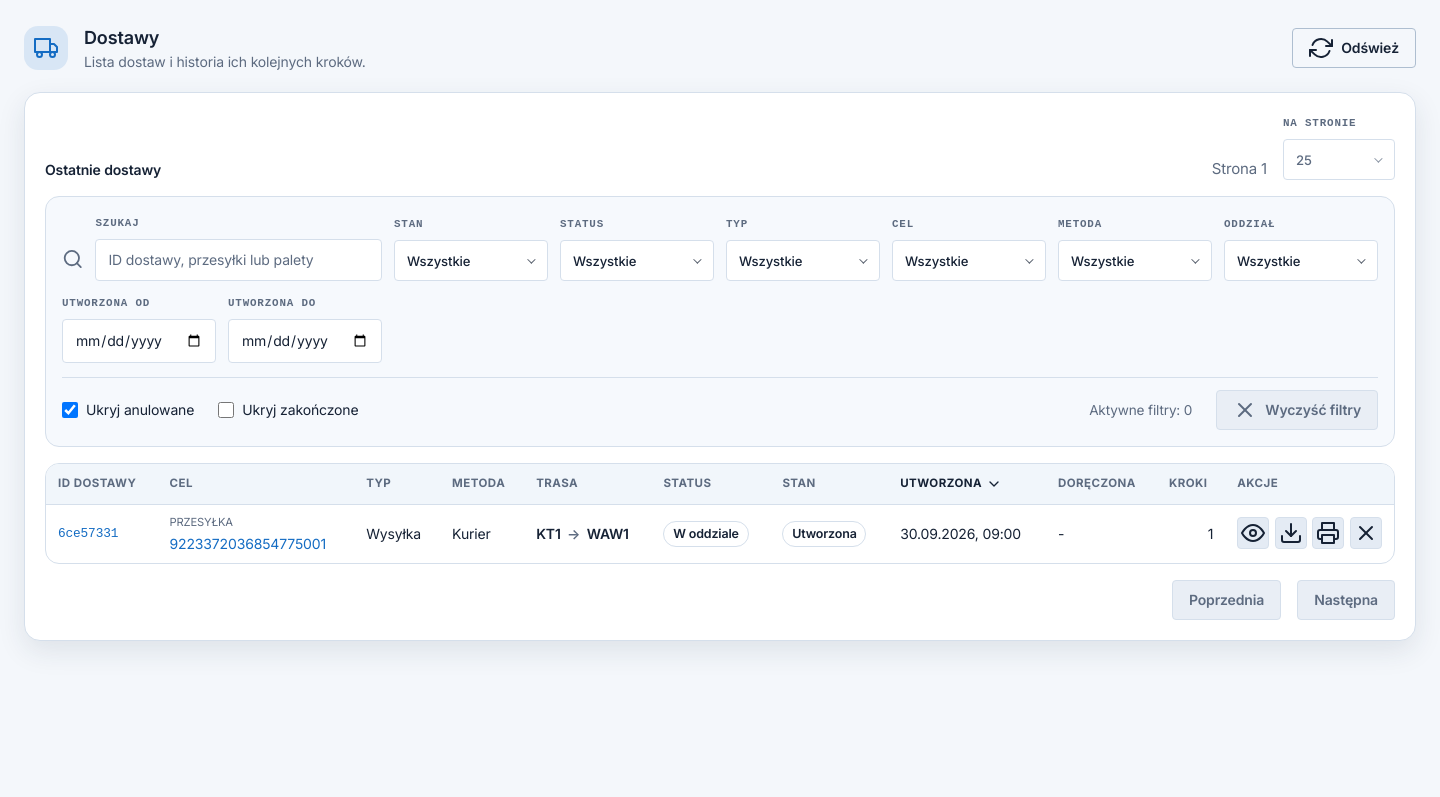
it: Deliveries › shows the delivery and its steps
Check: the link "9223372036854775001" is shown, box x1=170 y1=533 x2=342 y2=554
Click the button named "Edytuj 6ce57331-8ef7-4a81-bf0f-14baa23231ad" at (1253, 533), box x1=1237 y1=517 x2=1269 y2=549
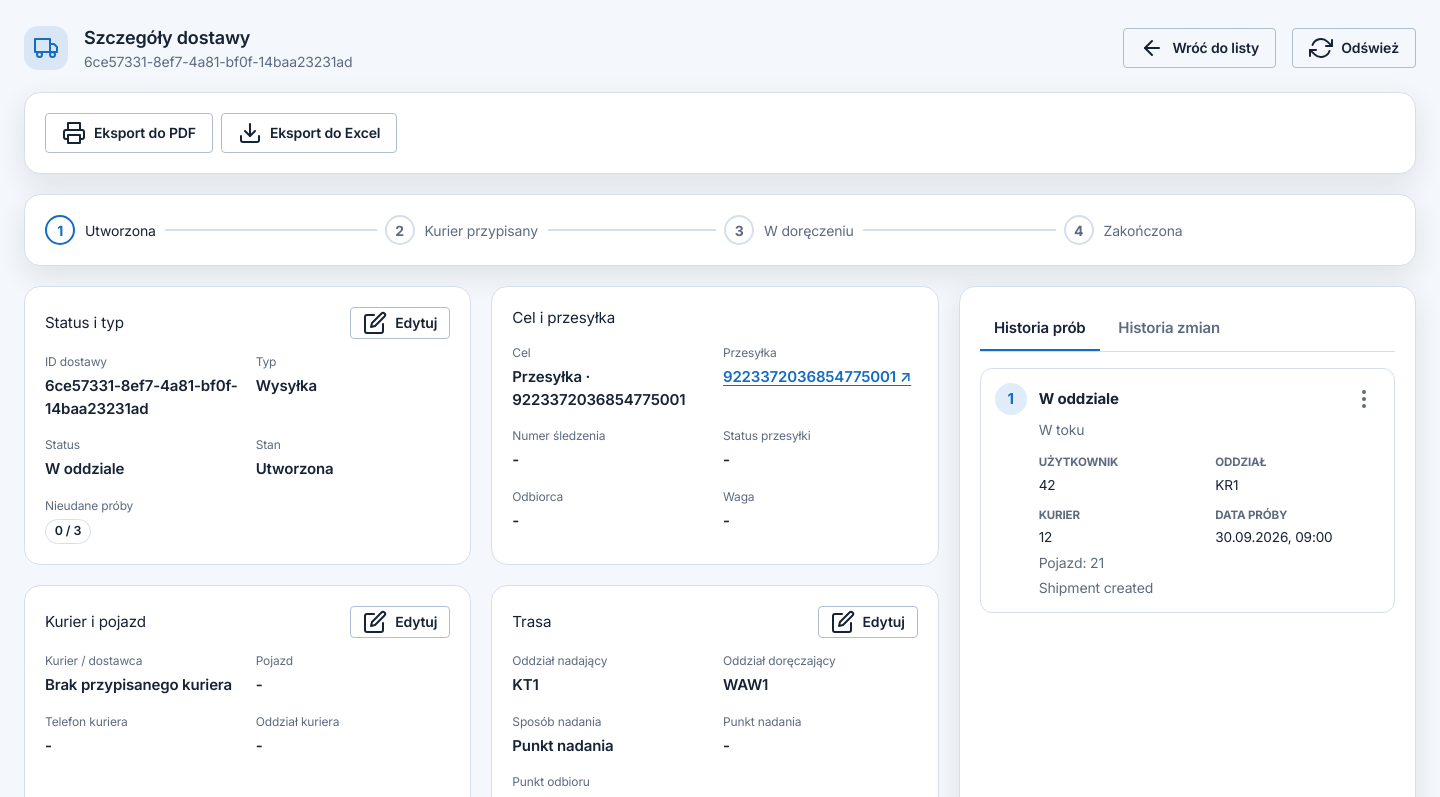
Check: the text "Shipment created" is shown, box x1=1039 y1=579 x2=1153 y2=596
Check: the text "Użytkownik" is shown, box x1=1039 y1=455 x2=1118 y2=469
Check: the text "42" is shown, box x1=1039 y1=476 x2=1056 y2=492
